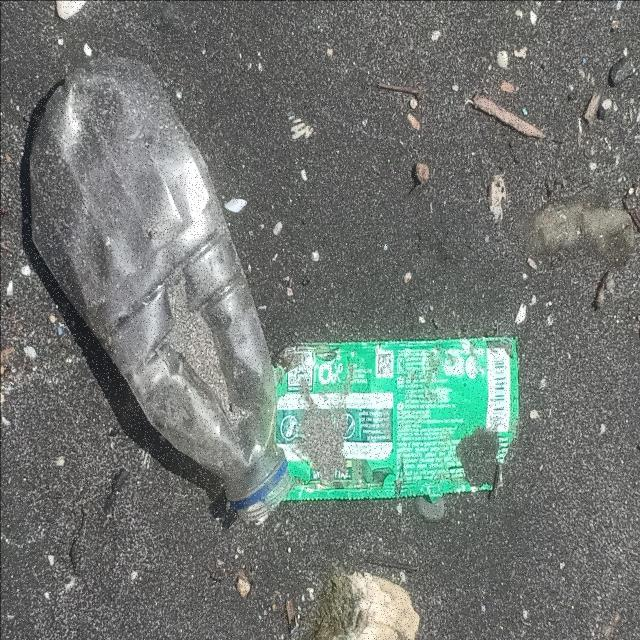plastic_waste: (29, 59, 294, 523), (286, 345, 520, 500)
